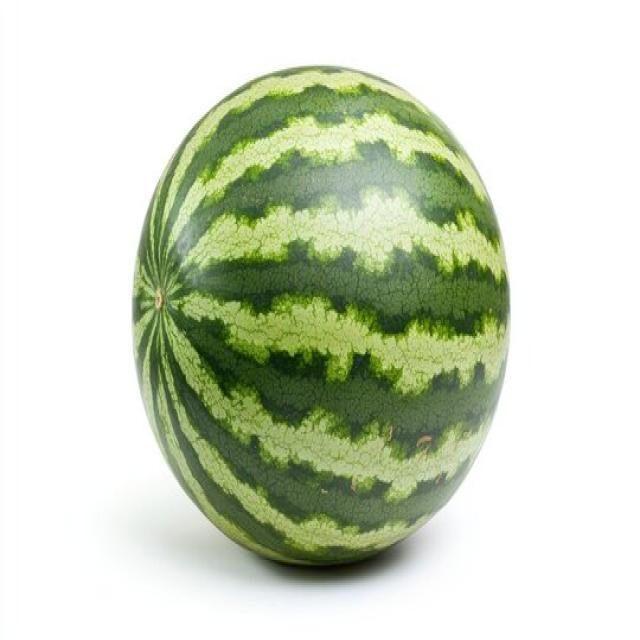Watermelon: (142, 60, 508, 562)
